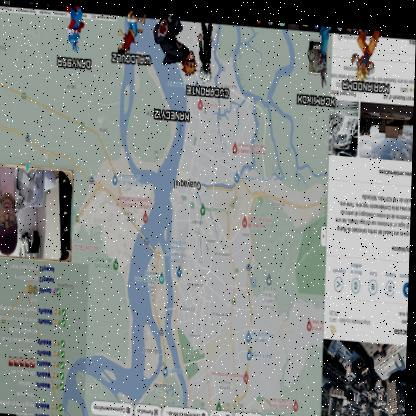streamer: (0, 166, 44, 257)
